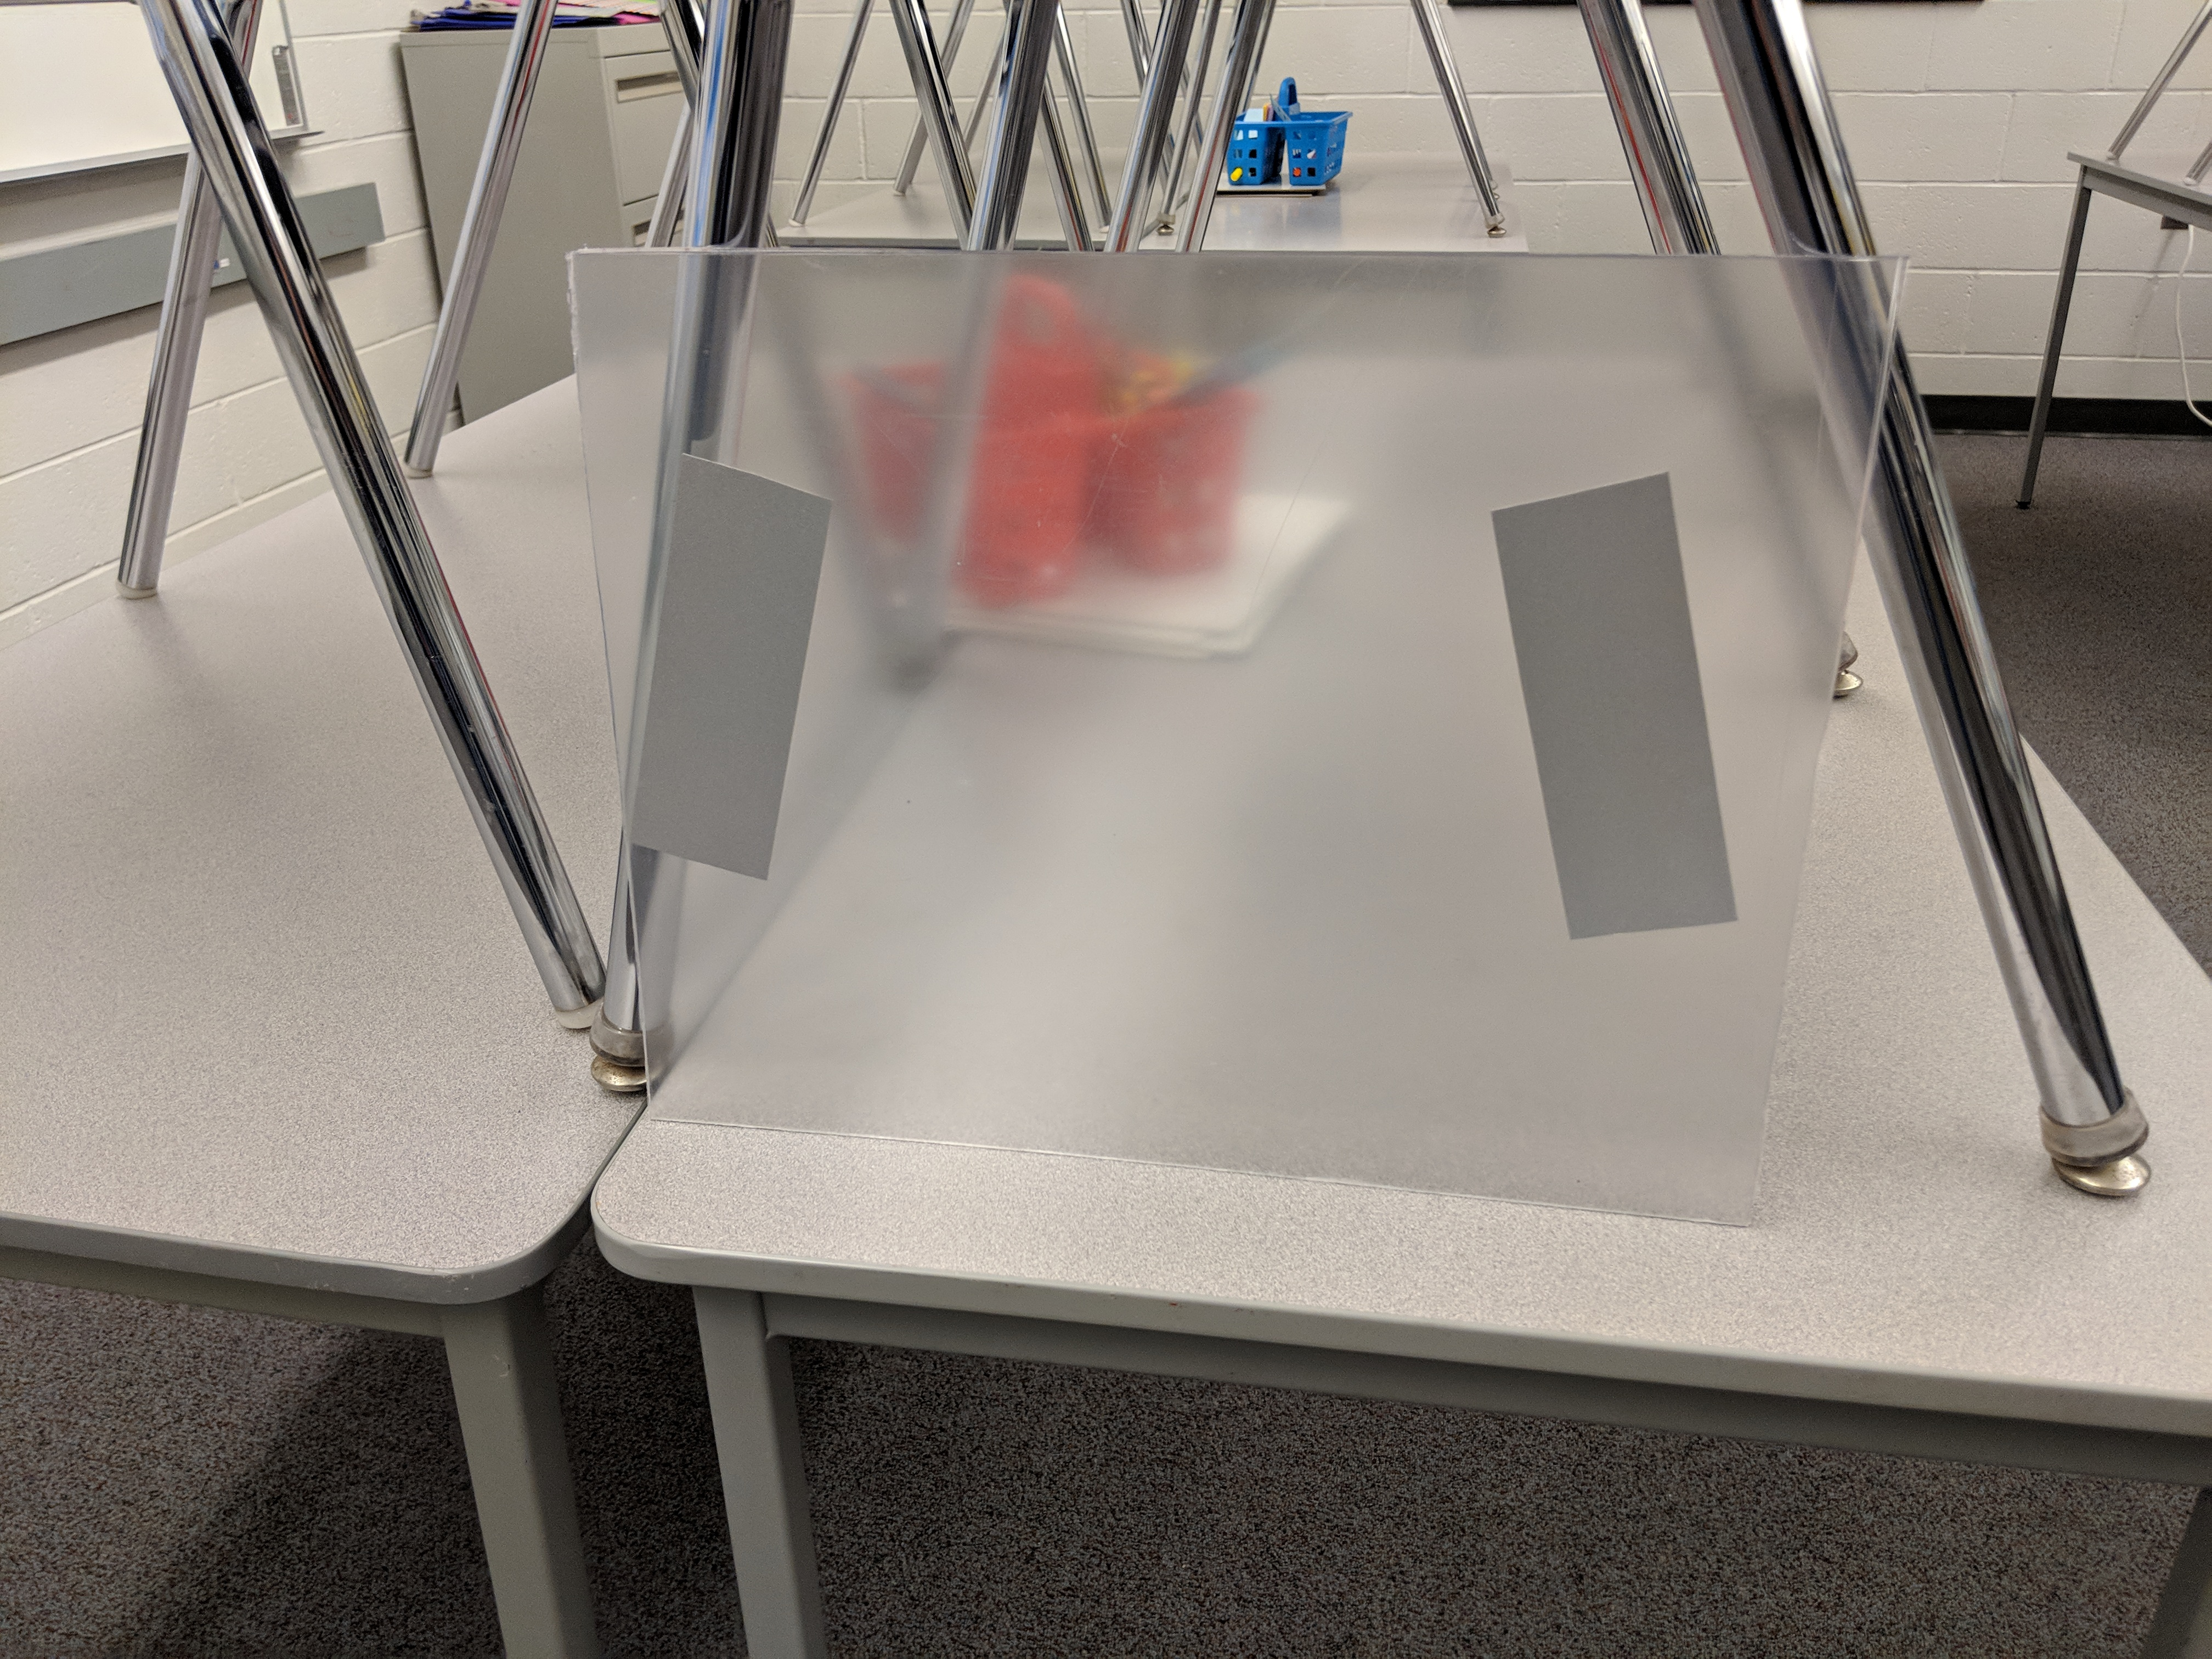vision_target: (622, 439, 1749, 950)
